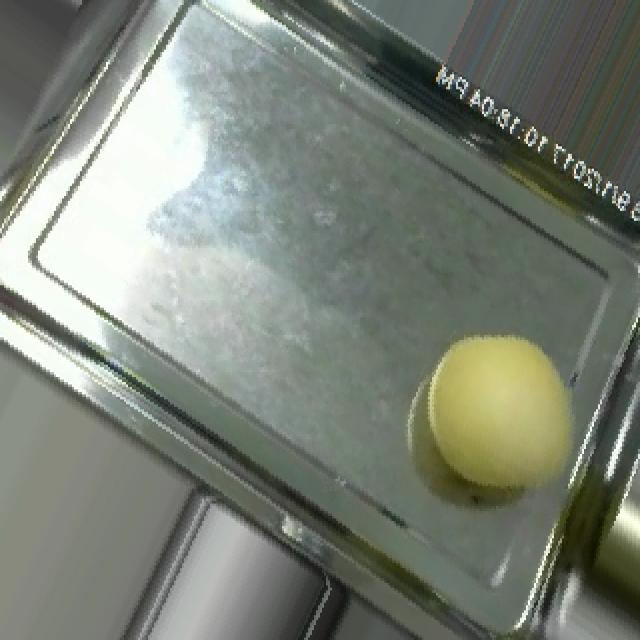Fruit: (386, 303, 618, 526)
